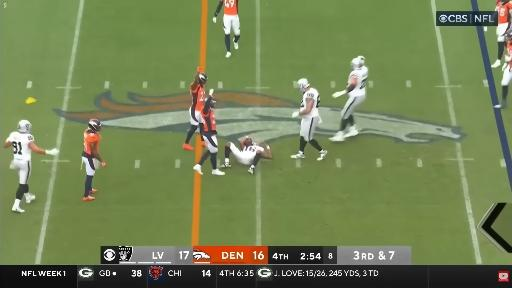Helmet: (297, 78, 310, 93), (18, 120, 31, 133), (88, 119, 101, 132), (351, 58, 364, 69), (205, 96, 216, 108), (198, 73, 207, 85), (209, 96, 217, 109), (504, 29, 511, 42), (358, 56, 365, 65), (500, 0, 509, 4), (252, 143, 257, 146)
Jersey: (9, 132, 34, 160), (348, 66, 368, 97), (301, 88, 319, 118), (84, 130, 101, 155), (202, 109, 217, 134), (191, 84, 205, 110), (496, 1, 511, 24), (242, 144, 263, 158), (224, 0, 238, 15), (507, 42, 511, 59)
Player: (4, 120, 58, 212), (330, 56, 368, 141), (291, 79, 327, 160), (194, 90, 225, 175), (82, 119, 106, 201), (183, 68, 207, 150), (221, 137, 271, 174), (213, 0, 240, 57), (494, 30, 511, 108), (492, 0, 511, 67)
